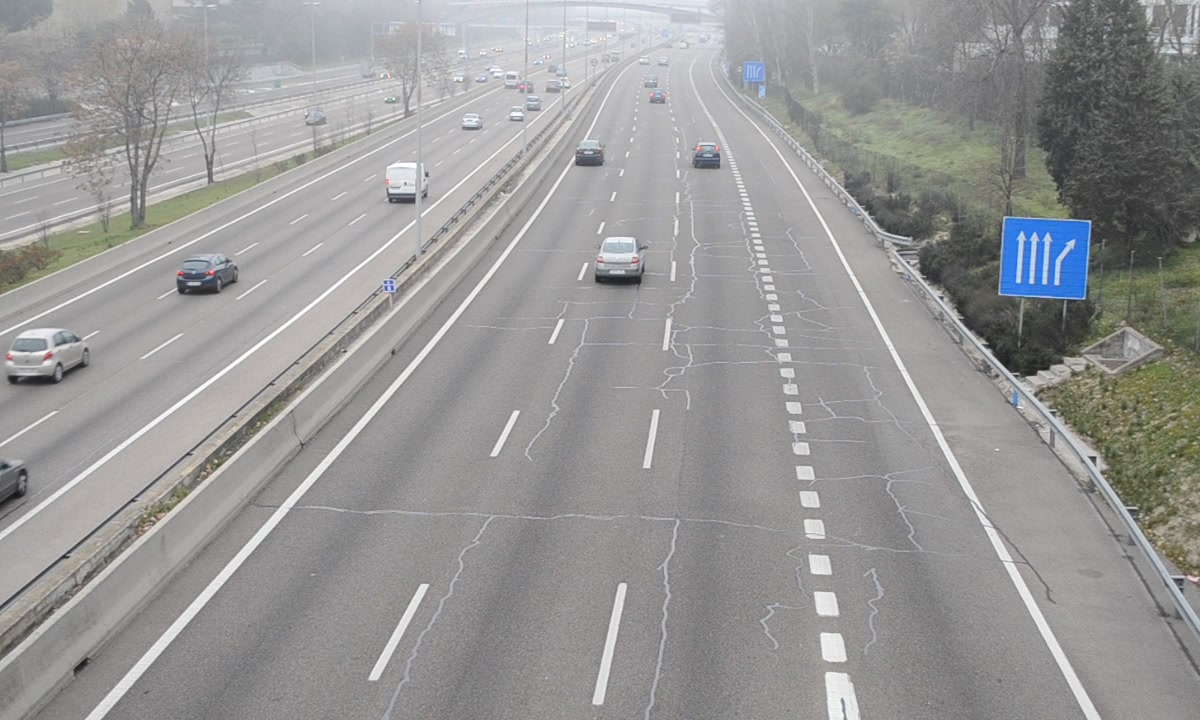car: (597, 238, 642, 284), (693, 142, 722, 170), (575, 141, 604, 168)
